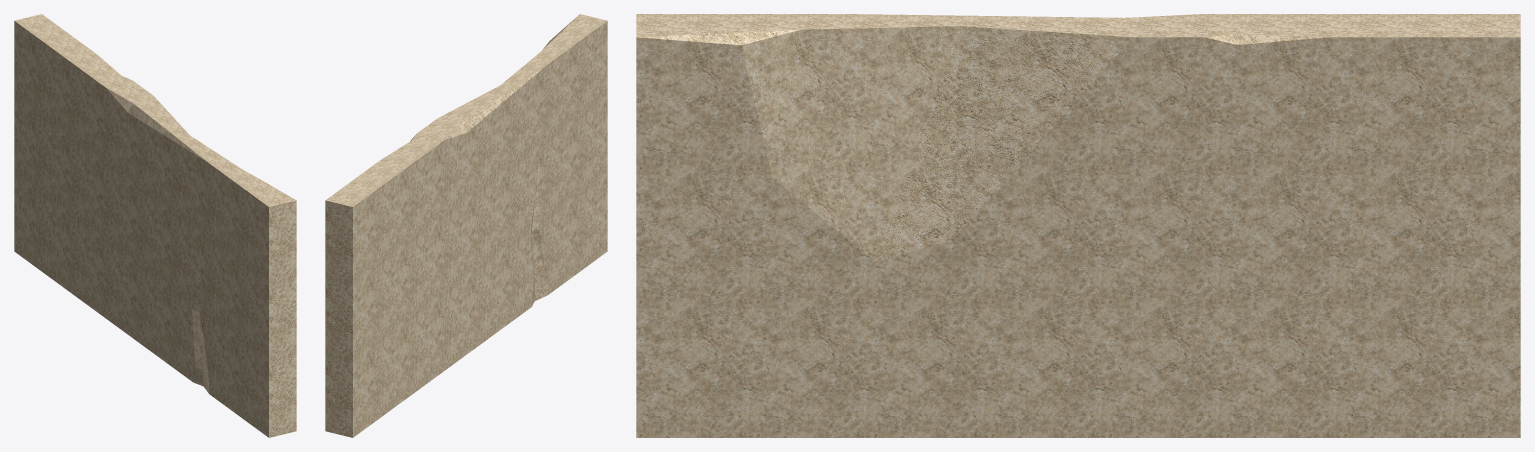
File: thm_tato_imprv_wall_damaged_s01_l1.fbx
The picture shows the model from 3 angles, left to right: view 1: azimuth 30°, elevation 25°; view 2: azimuth 150°, elevation 25°; view 3: azimuth 270°, elevation 25°; orthographic projection. The views are drawn at different scales.
Parts seen in each view (by area): view 1: mesh_node; view 2: mesh_node; view 3: mesh_node.
Part boxes in pixels (bbox=[...]): mesh_node: bbox=[14, 14, 296, 437]; mesh_node: bbox=[325, 14, 607, 437]; mesh_node: bbox=[636, 14, 1520, 437].
Size of the model in its own units: 0.5 by 4 by 8.
